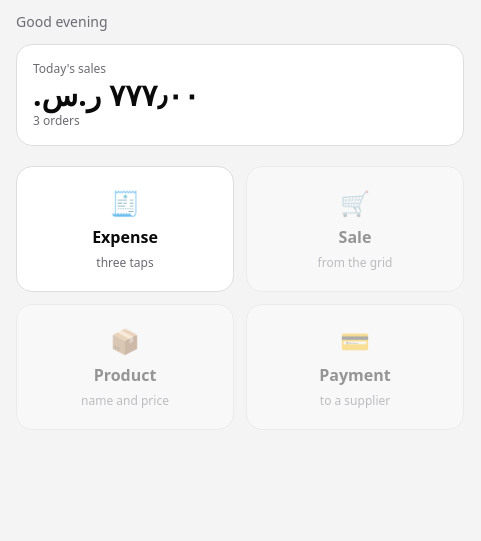
Test: QuickEntry › renders the keypad and the figure in Arabic digits under /ar
Click the button "🧾 Expense three taps". click: {"x": 125, "y": 229}
box: [16,166,234,292]
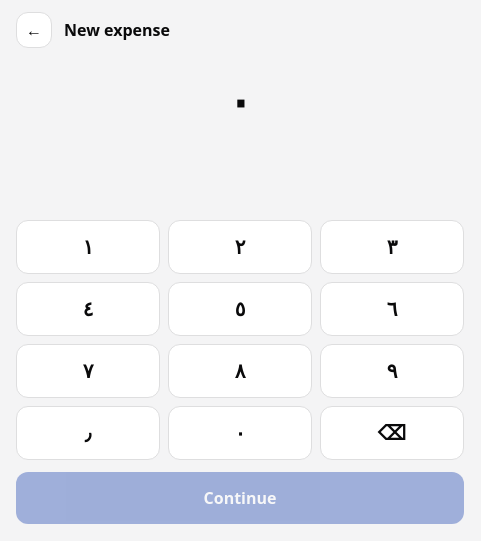
Click the button "٥". click: {"x": 240, "y": 309}
box: [168,282,312,336]
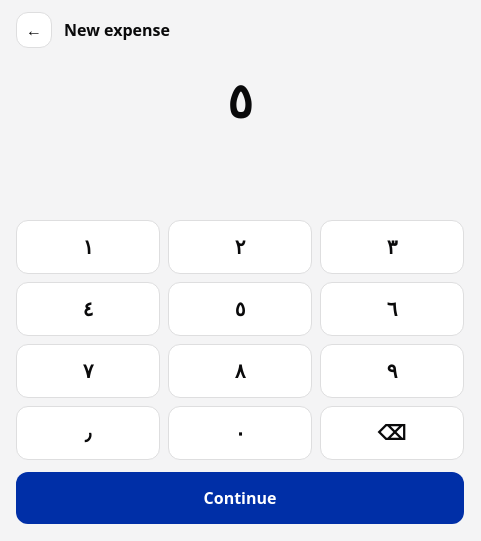
Click the button "٠". click: {"x": 240, "y": 433}
box: [168,406,312,460]
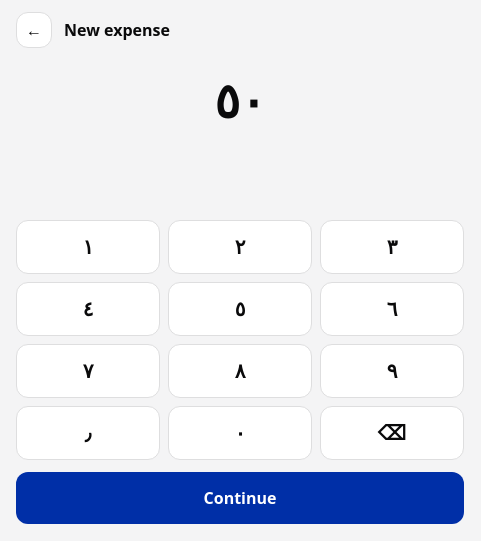
Expected: the button "٥" is shown, [168,282,312,336]
Expected: the text with test id "quick-amount" reads "٥٠", [214,67,266,132]
